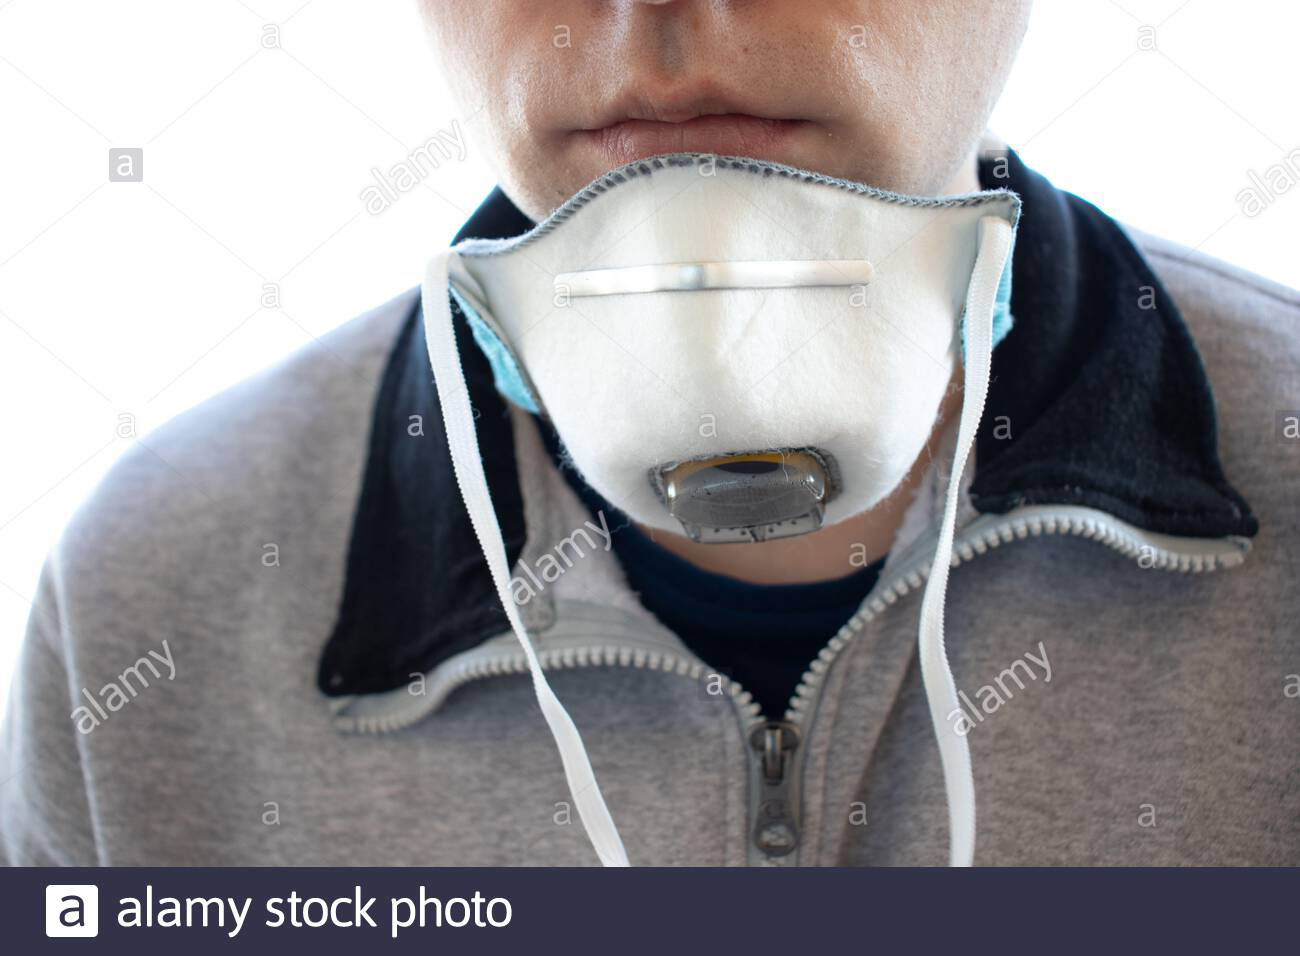mask_weared_incorrect: (417, 1, 1046, 484)
